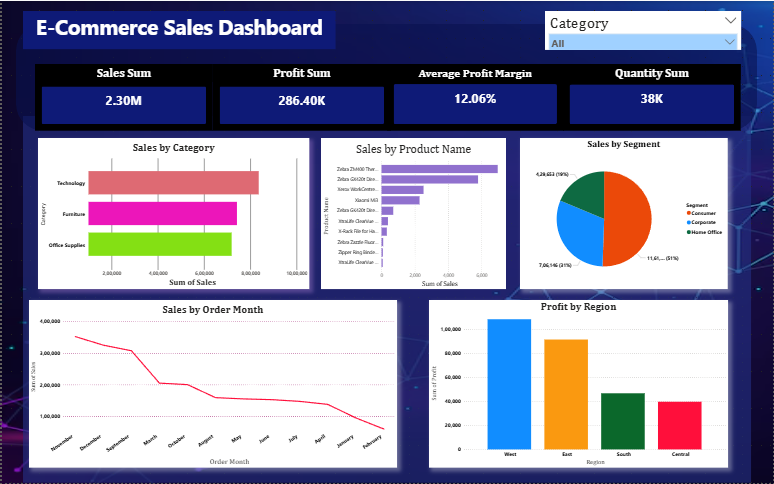

What the dashboard file says about the page in this screenshot:
{"tool":"powerbi","page":{"name":"Page 1","canvas":[2000,1250],"ordinal":0},"visuals":[{"type":"shape","box":[53.6,299.3,1888.9,951.5],"z":0},{"type":"shape","box":[37.3,58.7,1922.7,277.3],"z":1000},{"type":"cardVisual","title":"Sales Sum","fields":{"Data":["Sum(Ecommerce_Sales_Analysis.Sales)"]},"box":[85.3,162.7,461.3,173.3],"z":2000},{"type":"cardVisual","title":"Profit Sum","fields":{"Data":["Sum(Ecommerce_Sales_Analysis.Profit)"]},"box":[546.7,162.7,461.3,173.3],"z":3000},{"type":"cardVisual","title":"Average Profit Margin","fields":{"Data":["Avg(Ecommerce_Sales_Analysis.Profit Margin)"]},"box":[1000,162.7,458.7,173.3],"z":4000},{"type":"cardVisual","title":"Quantity Sum","fields":{"Data":["Sum(Ecommerce_Sales_Analysis.Quantity)"]},"box":[1456,162.7,461.3,173.3],"z":5000},{"type":"pieChart","title":" Sales by Segment","fields":{"Y":["Sum(Ecommerce_Sales_Analysis.Sales)"],"Category":["Ecommerce_Sales_Analysis.Segment"]},"box":[1344,354.7,538.7,392],"z":6000},{"type":"clusteredBarChart","title":" Sales by Category","fields":{"Category":["Ecommerce_Sales_Analysis.Category"],"Y":["Sum(Ecommerce_Sales_Analysis.Sales)"]},"box":[93.3,354.7,704,392],"z":7000},{"type":"lineChart","title":"Sales by Order Month","fields":{"Category":["Ecommerce_Sales_Analysis.Order Month"],"Y":["Sum(Ecommerce_Sales_Analysis.Sales)"]},"box":[69.3,776,954.7,434.7],"z":8000},{"type":"columnChart","title":"Profit by Region","fields":{"Y":["Sum(Ecommerce_Sales_Analysis.Profit)"],"Category":["Ecommerce_Sales_Analysis.Region"]},"box":[1106.7,776,776,434.7],"z":9000},{"type":"barChart","title":"Sales by Product Name","fields":{"Category":["Ecommerce_Sales_Analysis.Product Name"],"Y":["Sum(Ecommerce_Sales_Analysis.Sales)"]},"box":[826.7,354.7,480,392],"z":10000},{"type":"textbox","box":[53.3,26.7,810.7,98.7],"z":11000},{"type":"slicer","fields":{"Values":["Ecommerce_Sales_Analysis.Category"]},"box":[1408,26.7,509.3,101.3],"z":12000}]}

Visuals, with their boxes in screenshot pixels (x1, y1, x2, y2), scaled from the page's 2000x1250 canvas onto the 774x484 screenshot:
shape: 21/116/752/483
shape: 14/23/759/130
"Sales Sum" cardVisual: 33/63/212/130
"Profit Sum" cardVisual: 212/63/390/130
"Average Profit Margin" cardVisual: 387/63/565/130
"Quantity Sum" cardVisual: 563/63/742/130
" Sales by Segment" pieChart: 520/137/729/289
" Sales by Category" clusteredBarChart: 36/137/309/289
"Sales by Order Month" lineChart: 27/300/396/469
"Profit by Region" columnChart: 428/300/729/469
"Sales by Product Name" barChart: 320/137/506/289
textbox: 21/10/334/49
slicer - Ecommerce_Sales_Analysis.Category: 545/10/742/50
